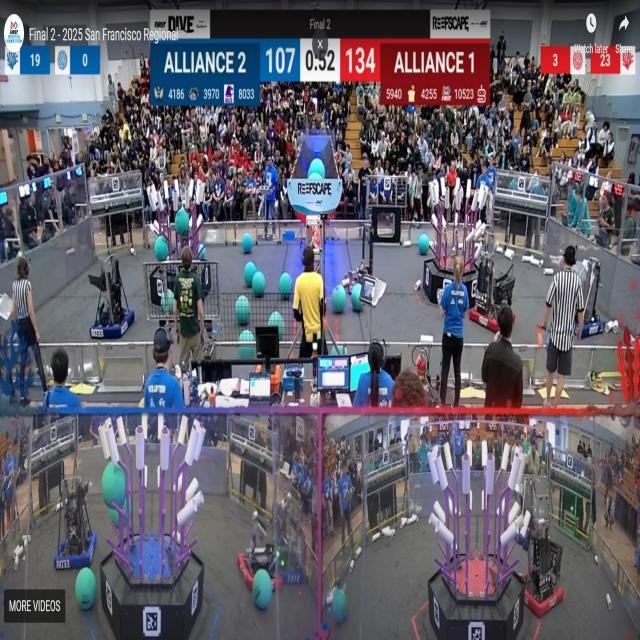Robot-YfA7: (51, 474, 97, 572), (469, 252, 520, 330), (89, 258, 131, 341), (526, 525, 564, 611), (233, 520, 278, 589), (580, 253, 608, 340), (282, 504, 305, 586)
